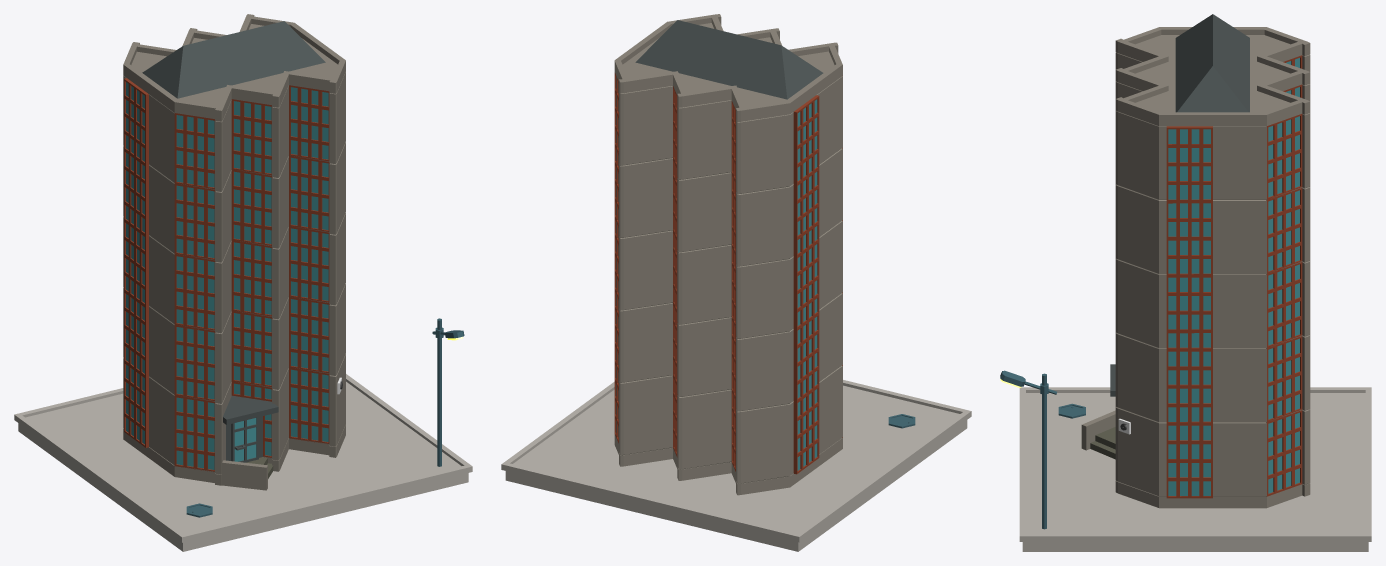
The model's file is modern_building_06.glb.
3 views of the same model, side by side, from view 1: azimuth 30°, elevation 25°; view 2: azimuth 150°, elevation 25°; view 3: azimuth 270°, elevation 25° (orthographic). The views are drawn at different scales.
Visible parts, largest first — view 1: Plane105, Box15936, Box15935_concret2_0, Rectangle027, Object404_concret2_0, Object413_concret2_0, Object395_concret2_0, Object422_concret2_0, Object423_concret2_0, Box15931_concret2_0, Object396_roof3_0, Object379_roof3_0 (+42 smaller); view 2: Plane105, Object395_concret2_0, Object413_concret2_0, Object423_concret2_0, Object404_concret2_0, Object422_concret2_0, Box15936, Box15935_concret2_0, Rectangle027, Box15931_concret2_0, Object417_roof3_0, Object408_roof3_0 (+8 smaller); view 3: Plane105, Box15935_concret2_0, Object422_concret2_0, Object404_concret2_0, Object395_concret2_0, Object413_concret2_0, Object423_concret2_0, Box15936, Rectangle027, Box15931_concret2_0, Object391_mirror_0, Object400_mirror_0 (+21 smaller).
Boxes of the visible parts, x1,y1,x2,y2 form: Plane105: (18, 381, 468, 551); Box15936: (142, 21, 325, 98); Box15935_concret2_0: (123, 14, 345, 121); Rectangle027: (14, 374, 472, 542); Object404_concret2_0: (123, 213, 345, 333); Object413_concret2_0: (123, 142, 345, 262); Object395_concret2_0: (123, 283, 345, 403); Object422_concret2_0: (123, 72, 345, 191); Object423_concret2_0: (123, 354, 345, 474); Box15931_concret2_0: (123, 424, 345, 485); Object396_roof3_0: (174, 254, 215, 330); Object379_roof3_0: (174, 395, 215, 471); Plane105: (505, 385, 967, 551); Object395_concret2_0: (618, 293, 842, 411); Object413_concret2_0: (617, 148, 842, 266); Object423_concret2_0: (619, 365, 842, 483); Object404_concret2_0: (619, 221, 842, 338); Object422_concret2_0: (618, 76, 842, 194); Box15936: (635, 20, 823, 99); Box15935_concret2_0: (614, 14, 842, 121); Rectangle027: (501, 380, 971, 542); Box15931_concret2_0: (614, 434, 842, 495); Object417_roof3_0: (793, 95, 819, 184); Object408_roof3_0: (793, 168, 819, 257); Plane105: (1022, 393, 1368, 551); Box15935_concret2_0: (1115, 27, 1310, 126); Object422_concret2_0: (1115, 52, 1310, 199); Object404_concret2_0: (1115, 258, 1310, 348); Object395_concret2_0: (1115, 332, 1310, 422); Object413_concret2_0: (1115, 184, 1310, 274); Object423_concret2_0: (1115, 406, 1310, 496); Box15936: (1175, 14, 1249, 112); Rectangle027: (1019, 387, 1371, 541); Box15931_concret2_0: (1115, 481, 1310, 508); Object391_mirror_0: (1168, 351, 1210, 421); Object400_mirror_0: (1168, 277, 1210, 347).
Size of the model in its own units: 11.2 by 15.38 by 11.82.
